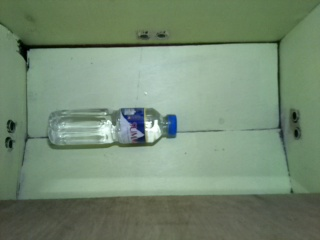bottle: (46, 106, 177, 147)
